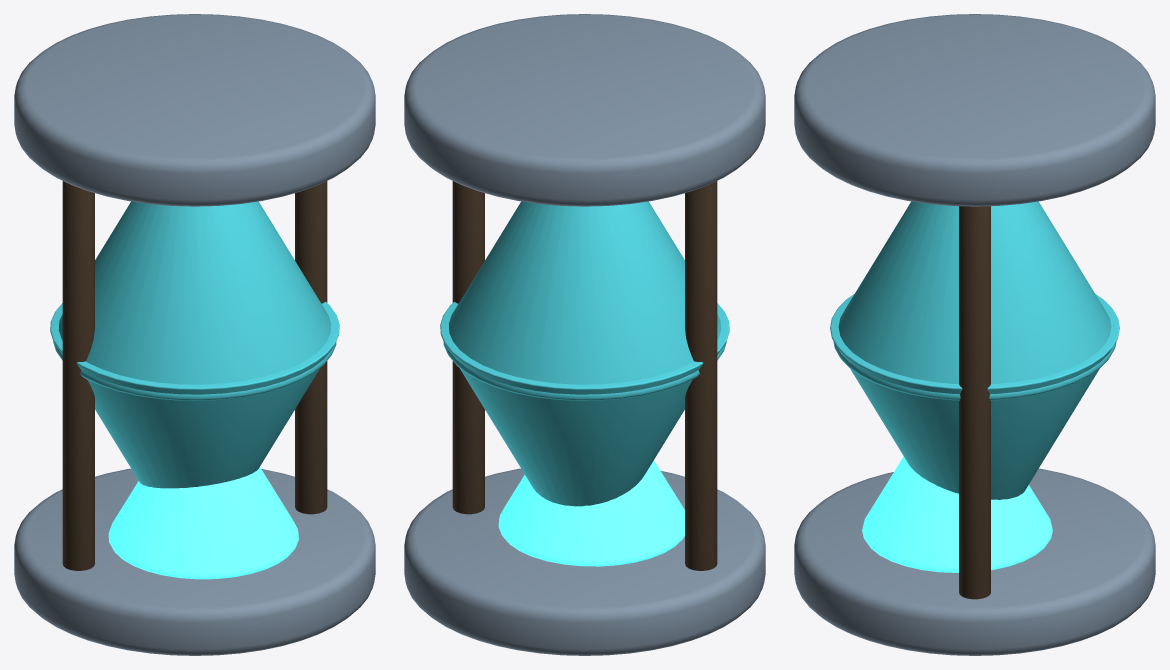
Rendered from trinket_v6.glb.
3 renders of one model, left to right at view 1: azimuth 30°, elevation 25°; view 2: azimuth 150°, elevation 25°; view 3: azimuth 270°, elevation 25°, orthographic.
Parts seen in each view (by area): view 1: HOURGLASS_CAP_PRIMARY.001, HOURGLASS_TOP_ACCENT, HOURGLASS_CAP_PRIMARY, HOURGLASS_BOTTOM_ACCENT, HOURGLASS_SAND_EMISSIVE, HOURGLASS_POST_SECONDARY, HOURGLASS_POST_SECONDARY.001; view 2: HOURGLASS_CAP_PRIMARY.001, HOURGLASS_CAP_PRIMARY, HOURGLASS_TOP_ACCENT, HOURGLASS_BOTTOM_ACCENT, HOURGLASS_POST_SECONDARY, HOURGLASS_SAND_EMISSIVE, HOURGLASS_POST_SECONDARY.001; view 3: HOURGLASS_CAP_PRIMARY.001, HOURGLASS_CAP_PRIMARY, HOURGLASS_TOP_ACCENT, HOURGLASS_BOTTOM_ACCENT, HOURGLASS_POST_SECONDARY.001, HOURGLASS_SAND_EMISSIVE.
Boxes of the visible parts, bbox=[...] form: HOURGLASS_CAP_PRIMARY.001: bbox=[14, 14, 375, 206]; HOURGLASS_TOP_ACCENT: bbox=[53, 201, 336, 400]; HOURGLASS_CAP_PRIMARY: bbox=[14, 468, 375, 655]; HOURGLASS_BOTTOM_ACCENT: bbox=[50, 301, 339, 488]; HOURGLASS_SAND_EMISSIVE: bbox=[108, 467, 298, 579]; HOURGLASS_POST_SECONDARY: bbox=[62, 181, 94, 570]; HOURGLASS_POST_SECONDARY.001: bbox=[295, 181, 327, 514]; HOURGLASS_CAP_PRIMARY.001: bbox=[404, 14, 765, 206]; HOURGLASS_CAP_PRIMARY: bbox=[404, 468, 765, 655]; HOURGLASS_TOP_ACCENT: bbox=[443, 201, 726, 400]; HOURGLASS_BOTTOM_ACCENT: bbox=[440, 301, 729, 506]; HOURGLASS_POST_SECONDARY: bbox=[685, 181, 717, 570]; HOURGLASS_SAND_EMISSIVE: bbox=[498, 460, 684, 566]; HOURGLASS_POST_SECONDARY.001: bbox=[452, 181, 484, 514]; HOURGLASS_CAP_PRIMARY.001: bbox=[794, 14, 1155, 206]; HOURGLASS_CAP_PRIMARY: bbox=[794, 468, 1155, 655]; HOURGLASS_TOP_ACCENT: bbox=[833, 201, 1116, 400]; HOURGLASS_BOTTOM_ACCENT: bbox=[830, 294, 1119, 499]; HOURGLASS_POST_SECONDARY.001: bbox=[959, 206, 990, 599]; HOURGLASS_SAND_EMISSIVE: bbox=[862, 456, 1052, 572].
Size of the model in its own units: 1.24 by 1.88 by 1.24.
